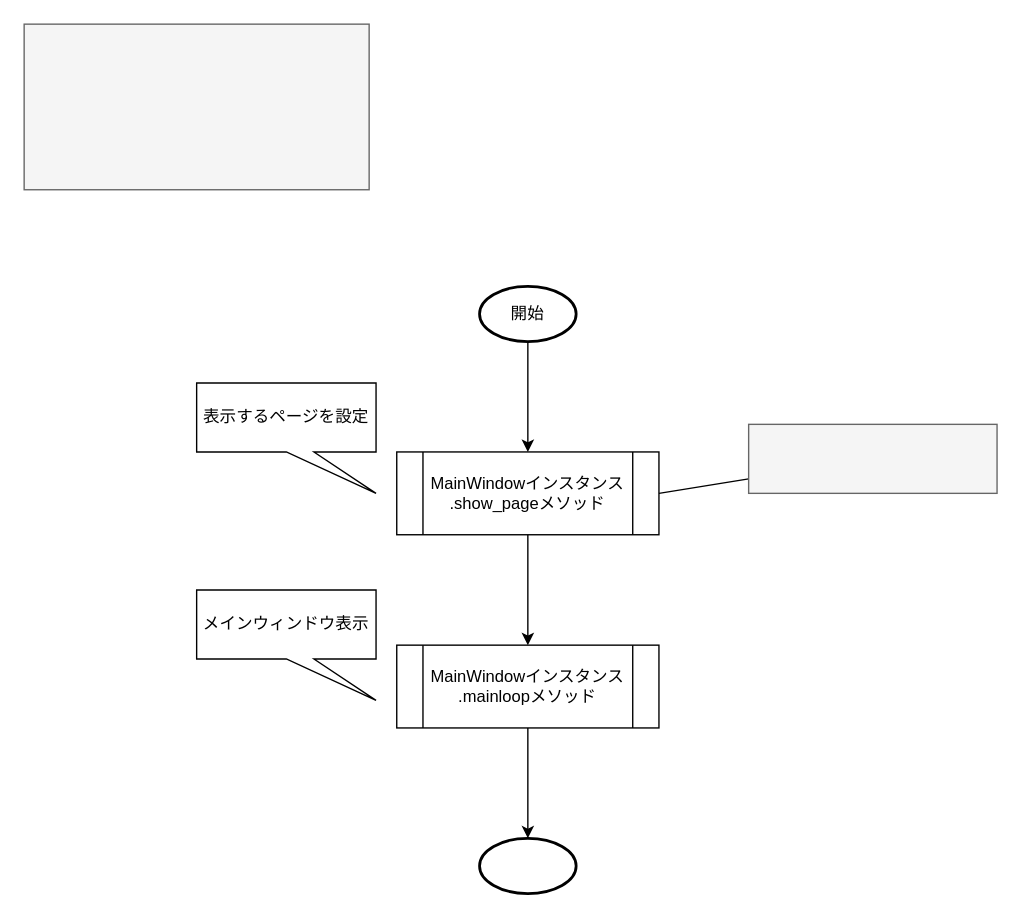
Image size: 1021x919. Some labels were removed from this diagram. The shapes that lost their labels are listed below. From the top down, each one's box as (x1, y1, x2, y2) in pixels, then its label:
(23, 23, 369, 190): 初期化メソッド クラス名：Appクラス メソッドの役割の役割 ・アプリ起動
(747, 423, 997, 493): 引数1: " Page1" > str型 ※表示したいページクラス名
(477, 836, 577, 894): 終了
